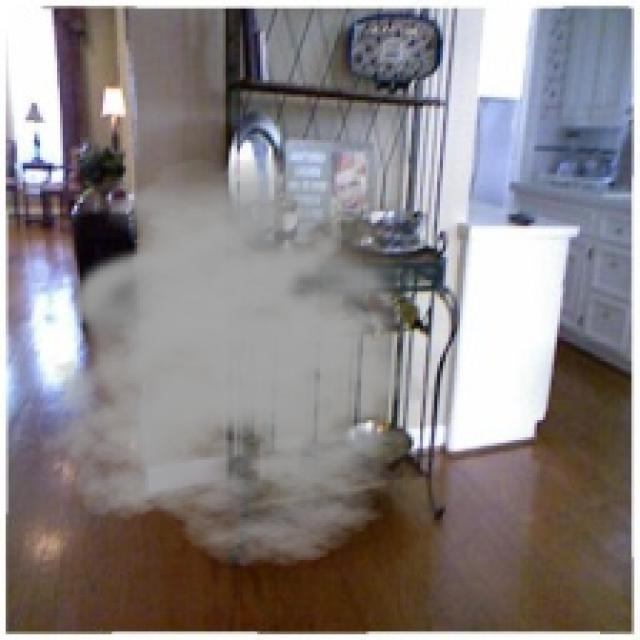Smoke: (37, 154, 460, 569)
